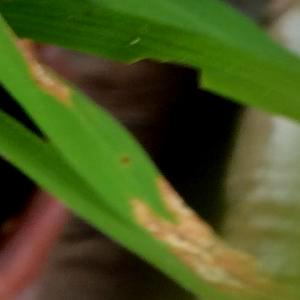1 RiceBlast: (120, 150, 249, 287), (17, 37, 90, 110)
